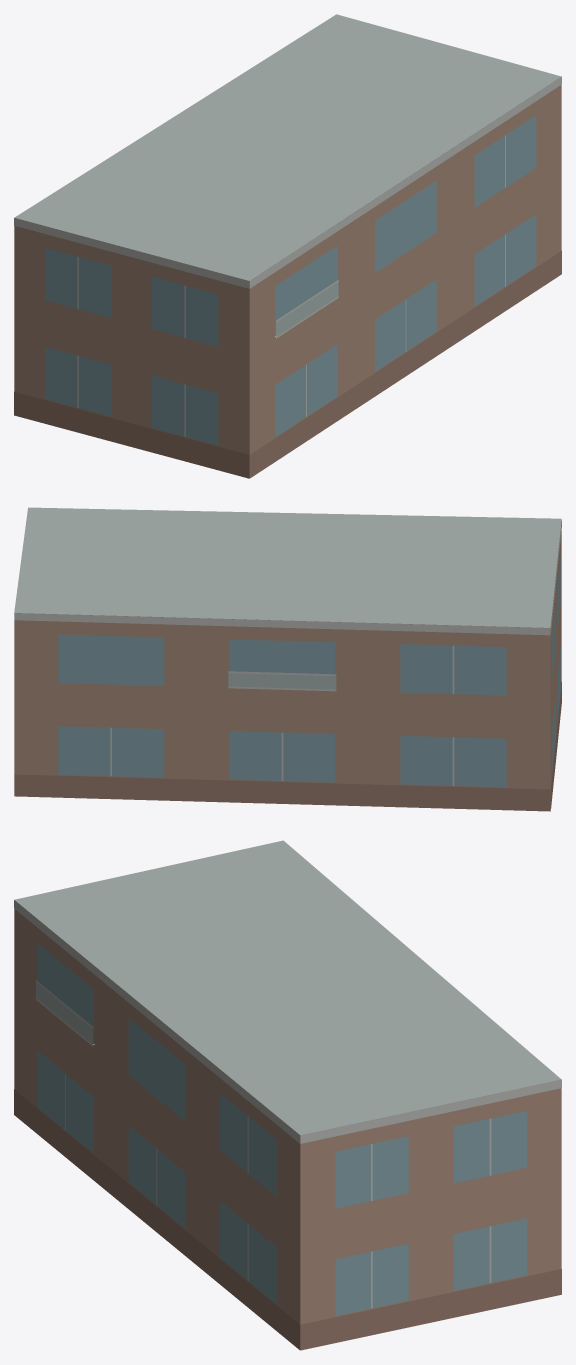
The model's file is survey-upis-32489940.glb.
The picture shows the model from 3 angles, top to bottom: view 1: azimuth 30°, elevation 25°; view 2: azimuth 150°, elevation 25°; view 3: azimuth 270°, elevation 25°; orthographic projection. The views are drawn at different scales.
Parts seen in each view (by area): view 1: survey-upis-32489940.tmp; view 2: survey-upis-32489940.tmp; view 3: survey-upis-32489940.tmp.
Boxes of the visible parts, left/top/right/bottom form: survey-upis-32489940.tmp: left=14, top=14, right=561, bottom=478; survey-upis-32489940.tmp: left=14, top=507, right=561, bottom=811; survey-upis-32489940.tmp: left=14, top=840, right=561, bottom=1350.
Size of the model in its own units: 17.95 by 6.1 by 14.08.
